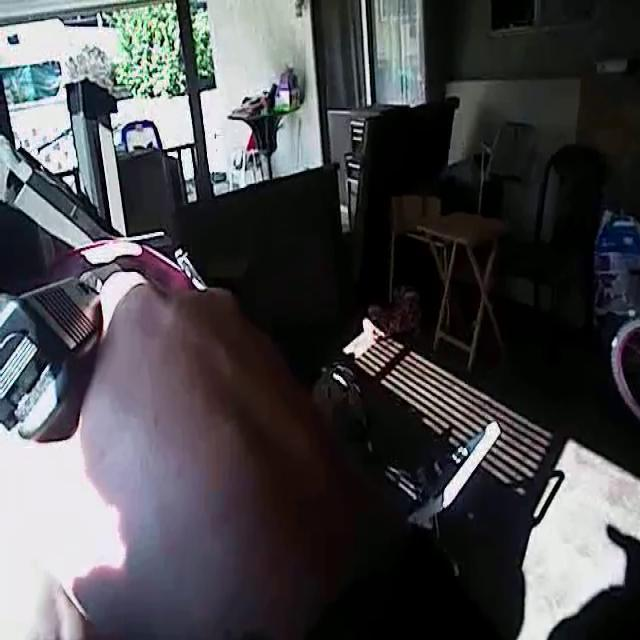gun: (0, 225, 146, 494)
